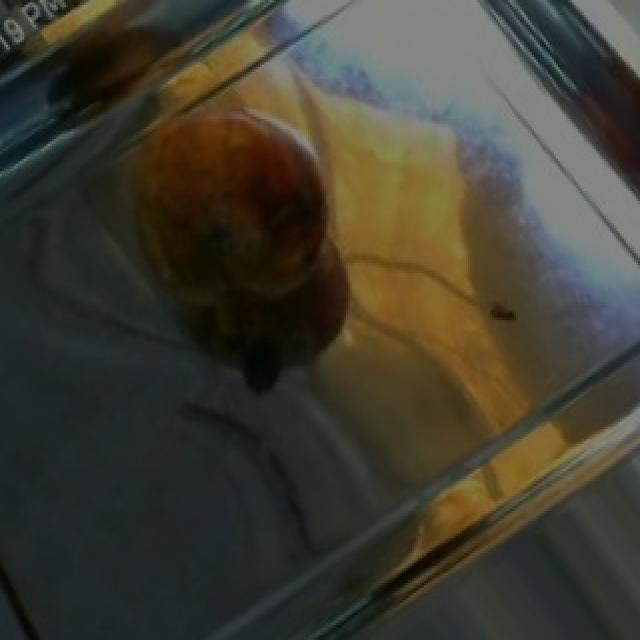fruit: (104, 77, 358, 332)
